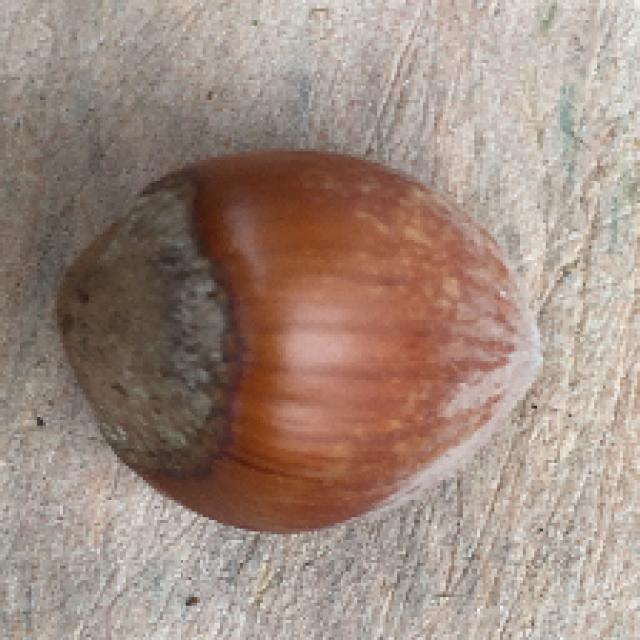qualityHazelnut: (59, 143, 550, 538)
